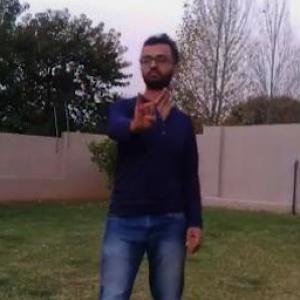takeoff-hand: (124, 76, 171, 129)
